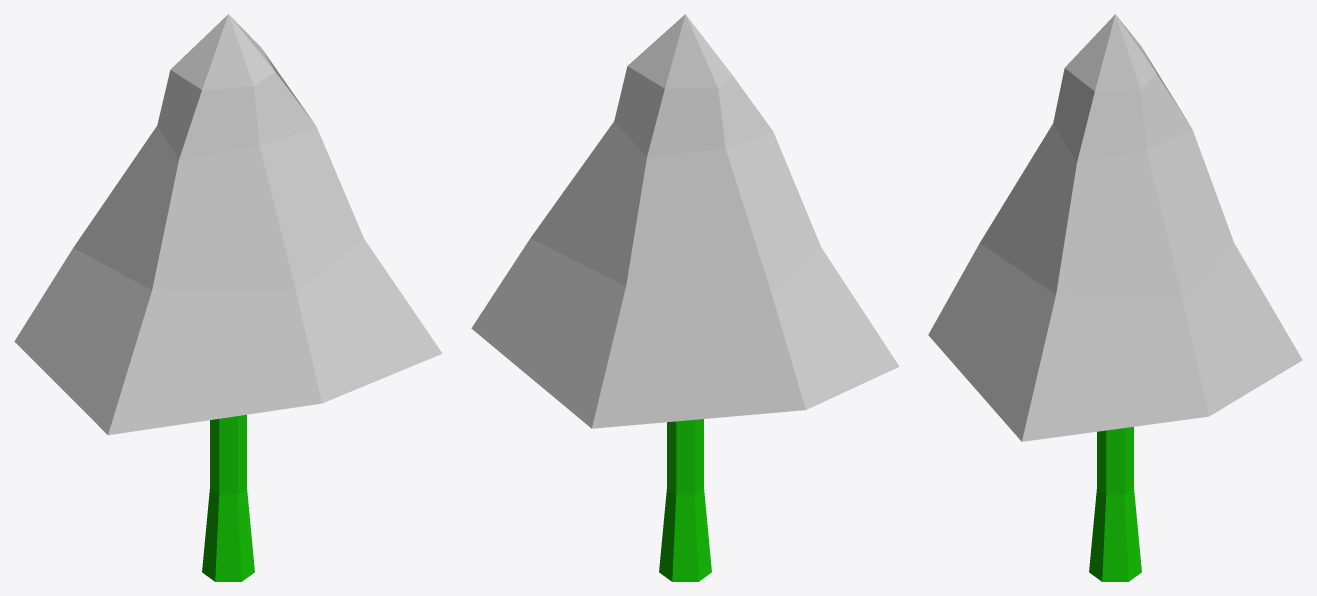
The model's file is Oak Tree.fbx.
3 views of the same model, side by side, from view 1: azimuth 30°, elevation 25°; view 2: azimuth 150°, elevation 25°; view 3: azimuth 270°, elevation 25° (orthographic).
Visible parts, largest first — view 1: Tree; view 2: Tree; view 3: Tree.
Boxes of the visible parts, x1,y1,x2,y2 form: Tree: (14,14,442,581); Tree: (471,14,899,581); Tree: (928,14,1302,581).
Bounding box in the file's own units: 1041 × 1009 × 1659.
